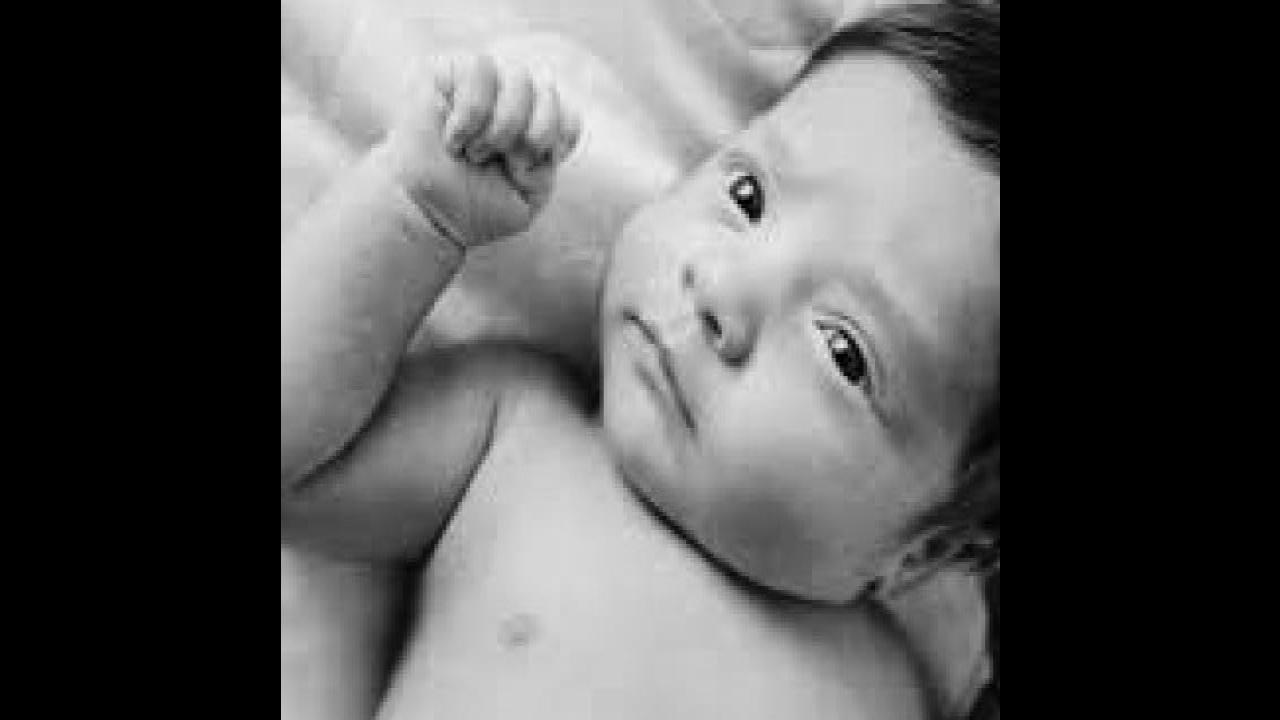hand: (387, 45, 592, 257)
